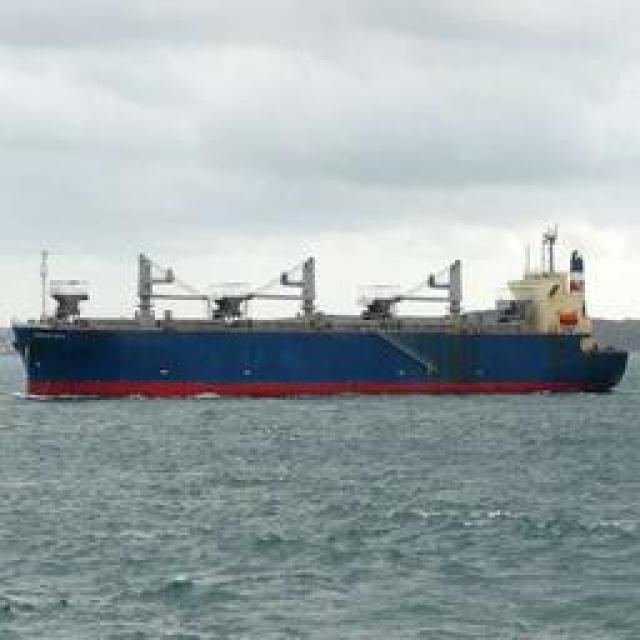ship2: (13, 228, 629, 398)
